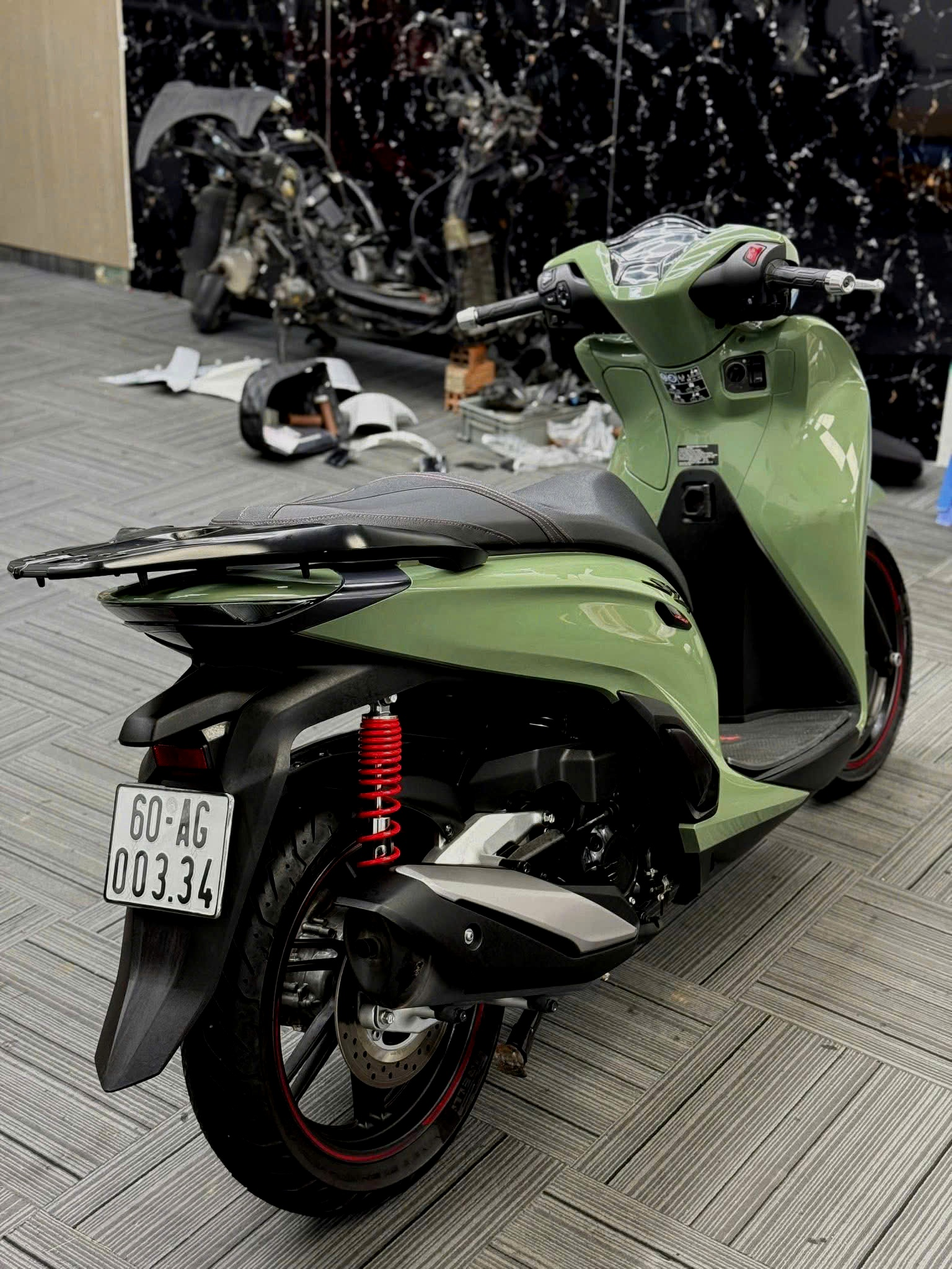Bien-so: (75, 770, 209, 916)
